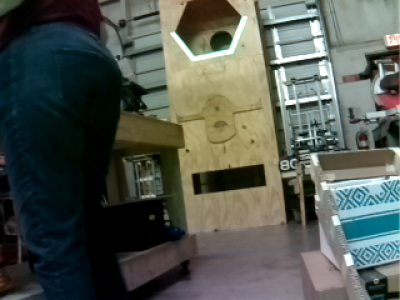target: (169, 16, 248, 62)
